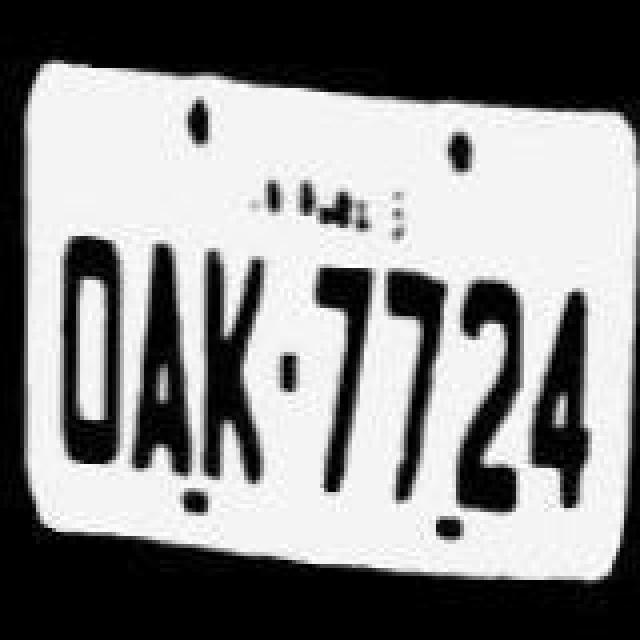2: (448, 246, 528, 518)
4: (524, 256, 596, 520)
7: (306, 236, 386, 500), (380, 260, 452, 512)
A: (122, 232, 202, 500)
K: (194, 232, 282, 500)
O: (48, 228, 132, 500)
